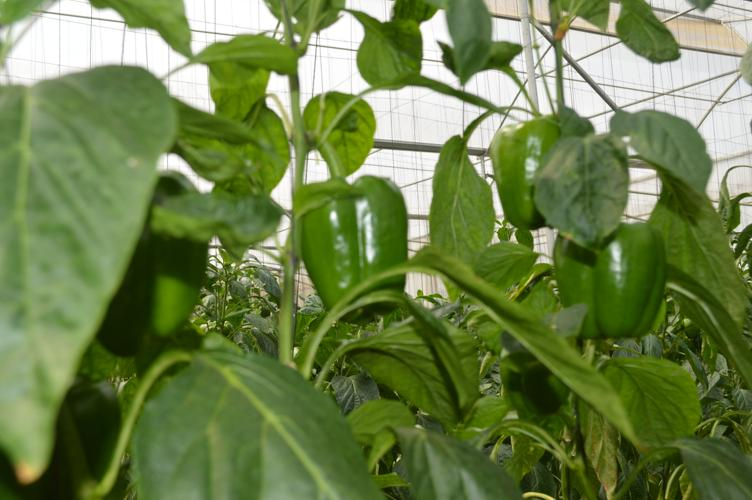BellPepper: (95, 172, 203, 349), (296, 172, 412, 313), (542, 222, 666, 338), (20, 373, 125, 492), (485, 116, 560, 227)
